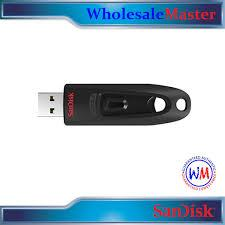Flash-drive: (25, 57, 218, 138)
